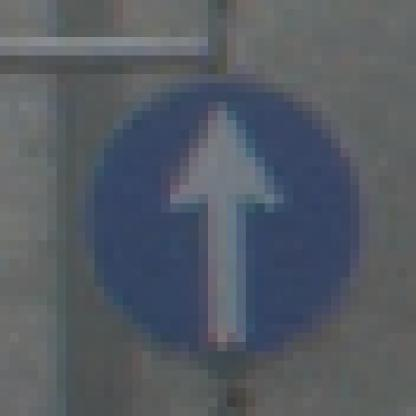AheadOnly: (58, 47, 370, 371)
